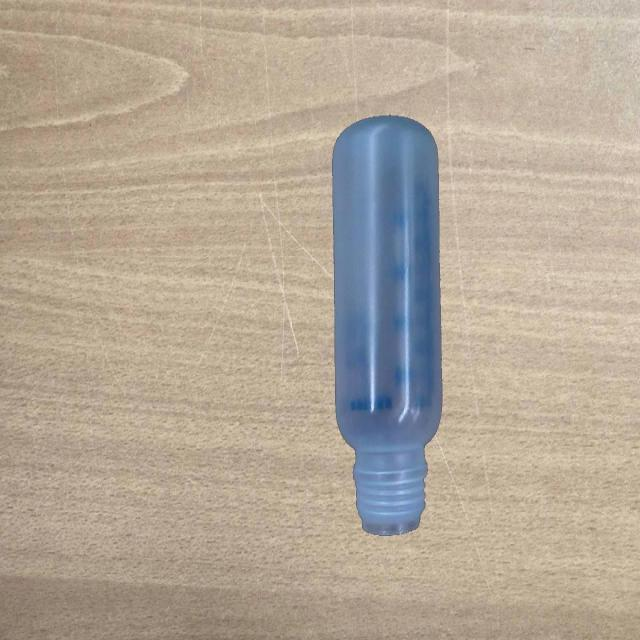bottle: (332, 115, 442, 537)
